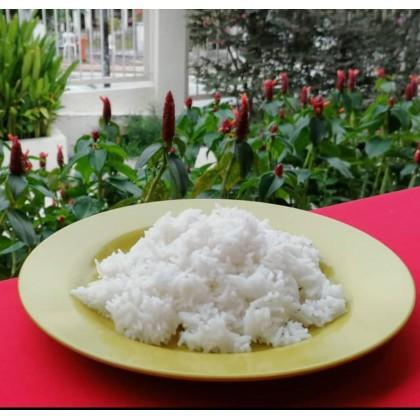WhiteRice: (71, 204, 348, 356)
